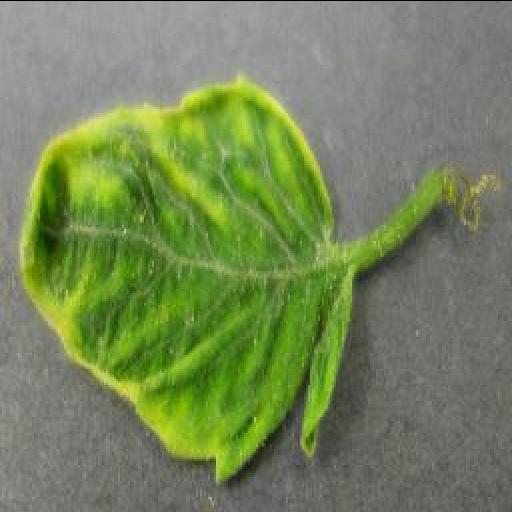disease_tomato: (15, 70, 357, 480)
